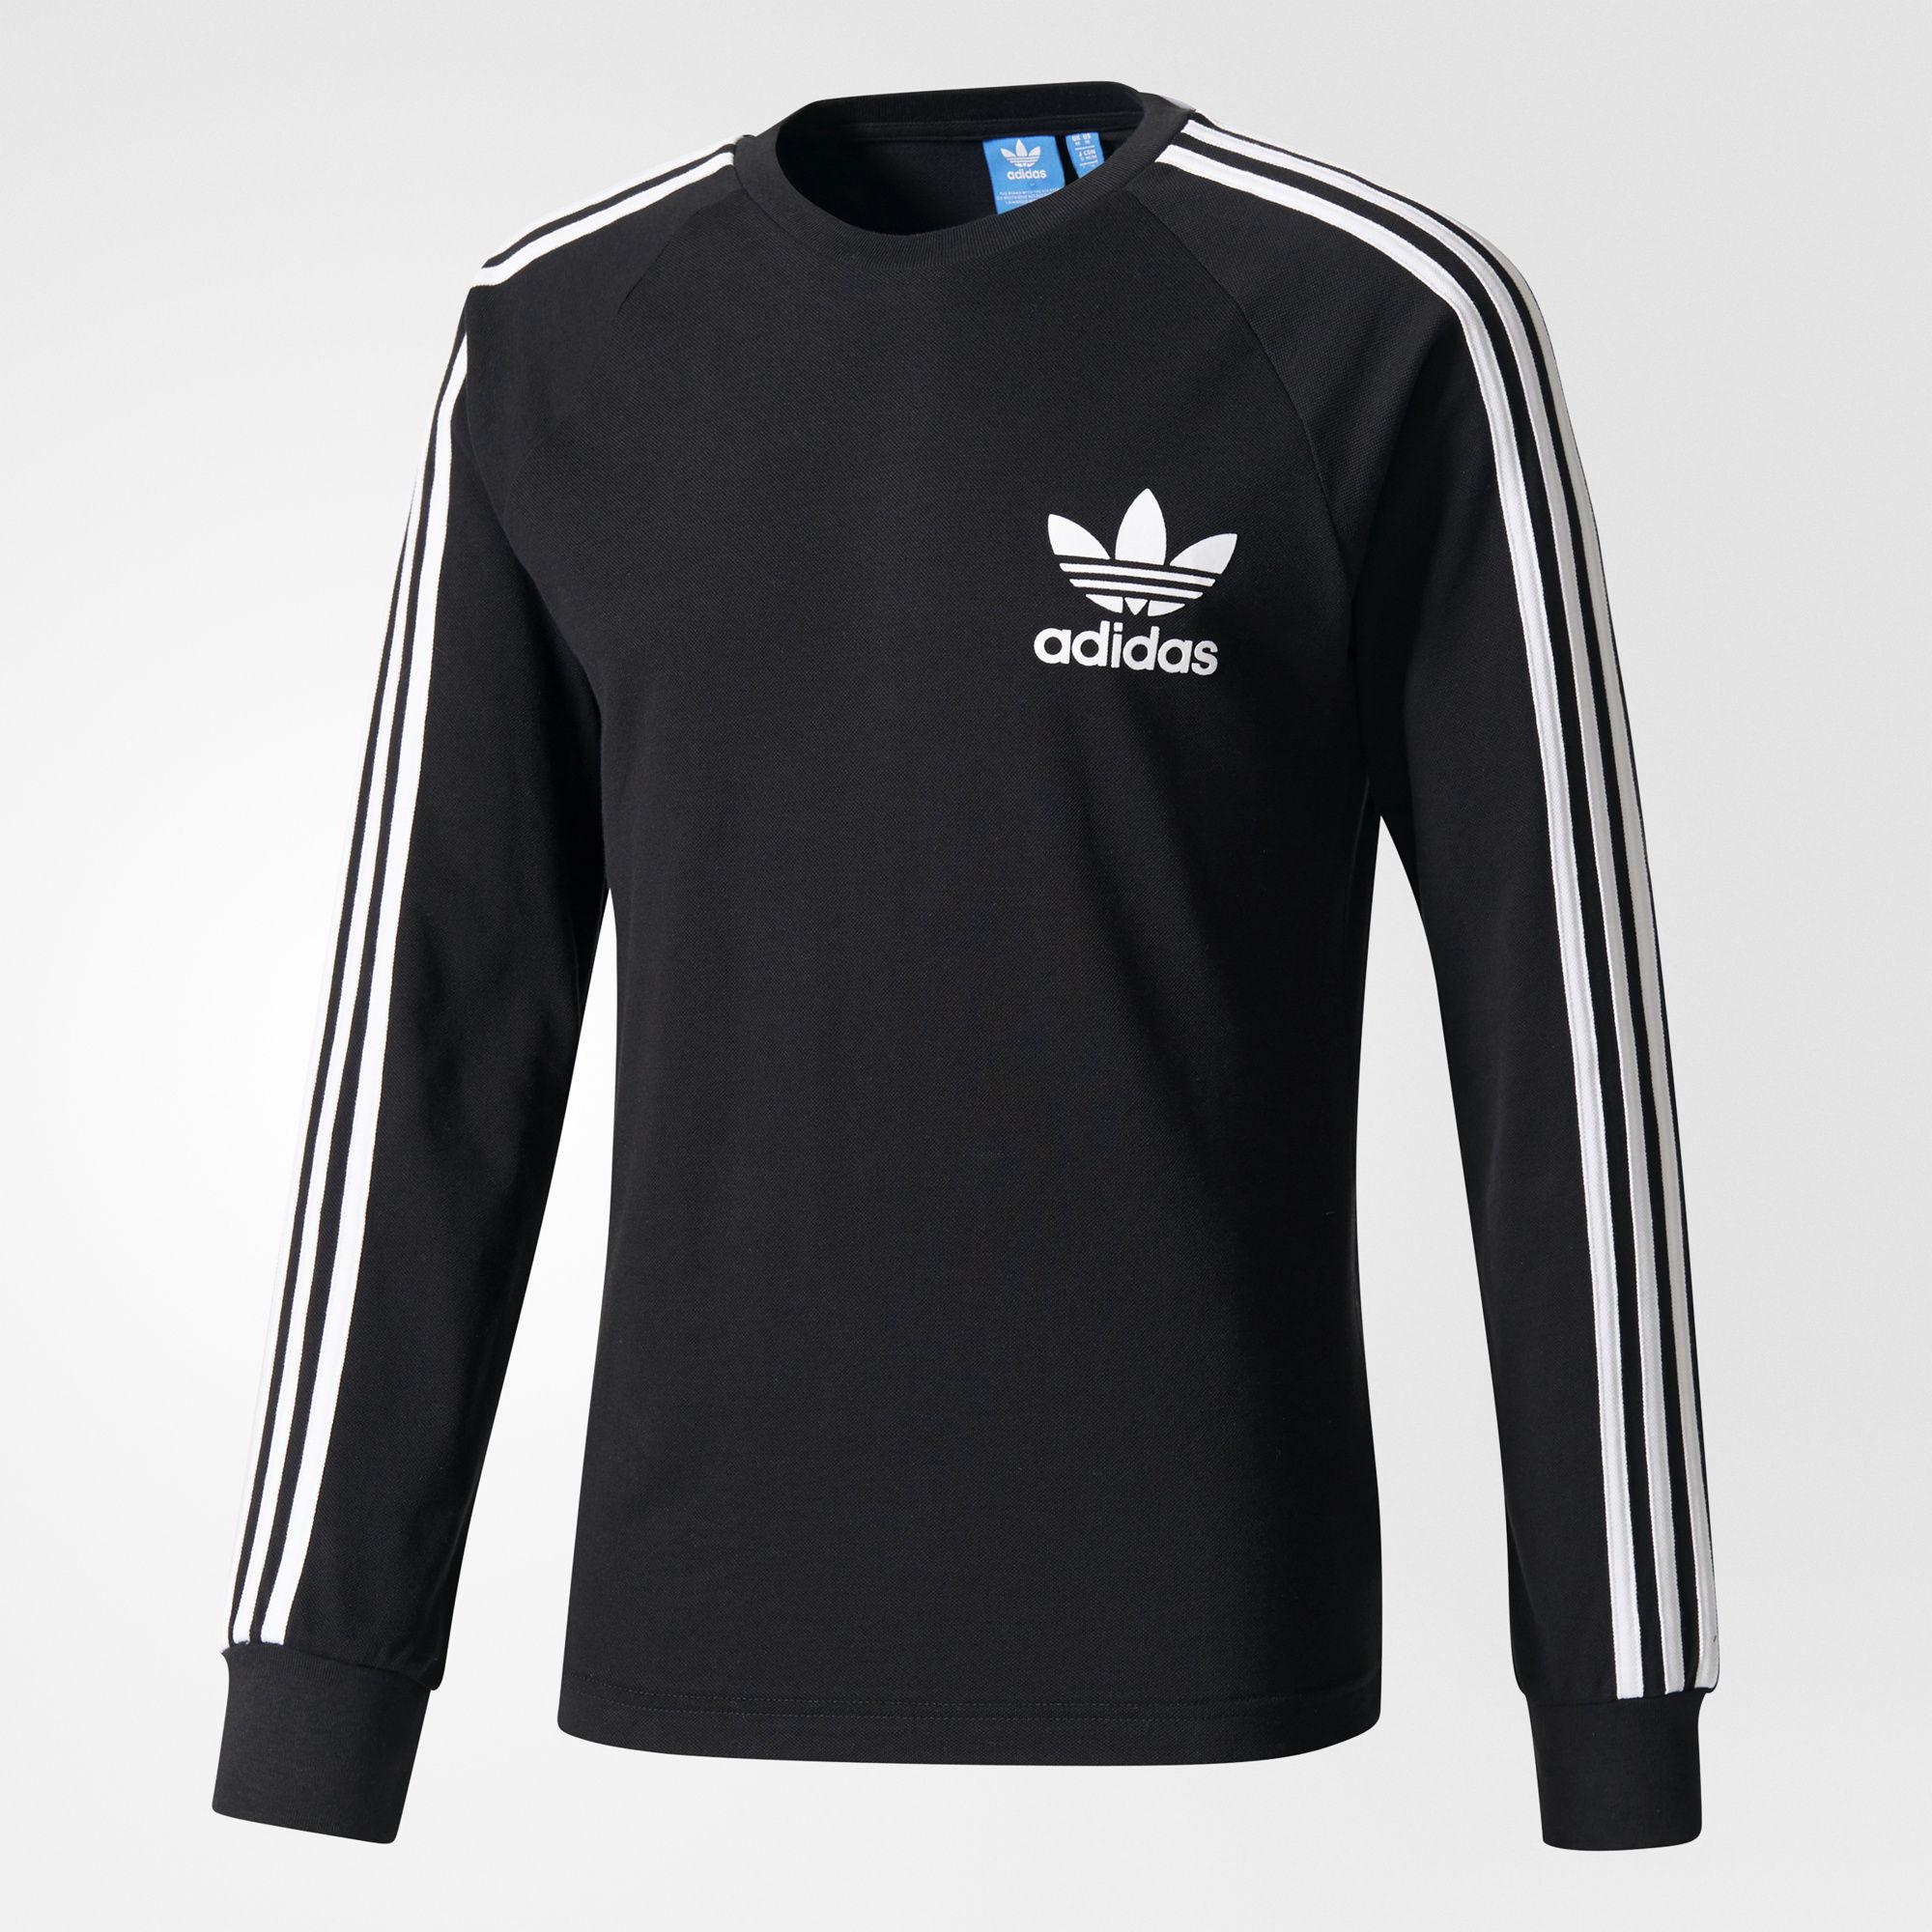teeshirt: (133, 55, 1767, 1932)
